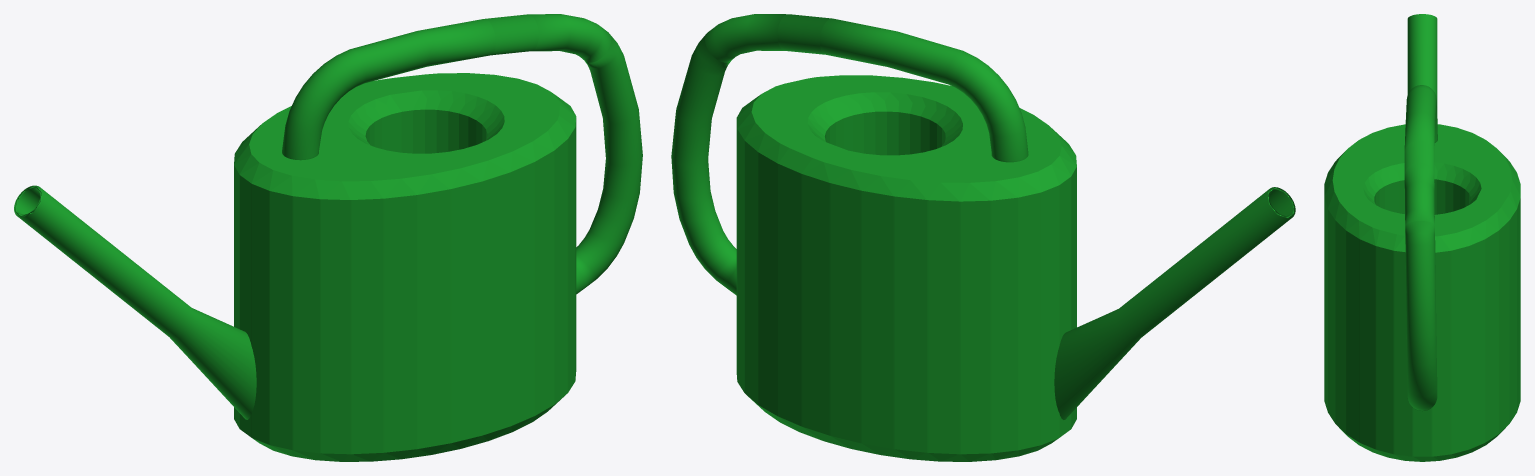
File: gieter.glb
3 views of the same model, side by side, from view 1: azimuth 30°, elevation 25°; view 2: azimuth 150°, elevation 25°; view 3: azimuth 270°, elevation 25° (orthographic). The views are drawn at different scales.
Parts seen in each view (by area): view 1: Cylinder.004, Cylinder.002, Cylinder.001; view 2: Cylinder.004, Cylinder.002, Cylinder.001; view 3: Cylinder.004, Cylinder.002, Cylinder.001.
Boxes of the visible parts, <box> form: Cylinder.004: <box>234,73,576,461</box>; Cylinder.002: <box>282,14,642,294</box>; Cylinder.001: <box>14,185,256,419</box>; Cylinder.004: <box>736,75,1076,461</box>; Cylinder.002: <box>671,14,1028,295</box>; Cylinder.001: <box>1054,187,1295,419</box>; Cylinder.004: <box>1324,124,1520,461</box>; Cylinder.002: <box>1404,85,1437,411</box>; Cylinder.001: <box>1407,14,1437,106</box>.
Size of the model in its own units: 0.5803 by 0.3322 by 0.1981.
